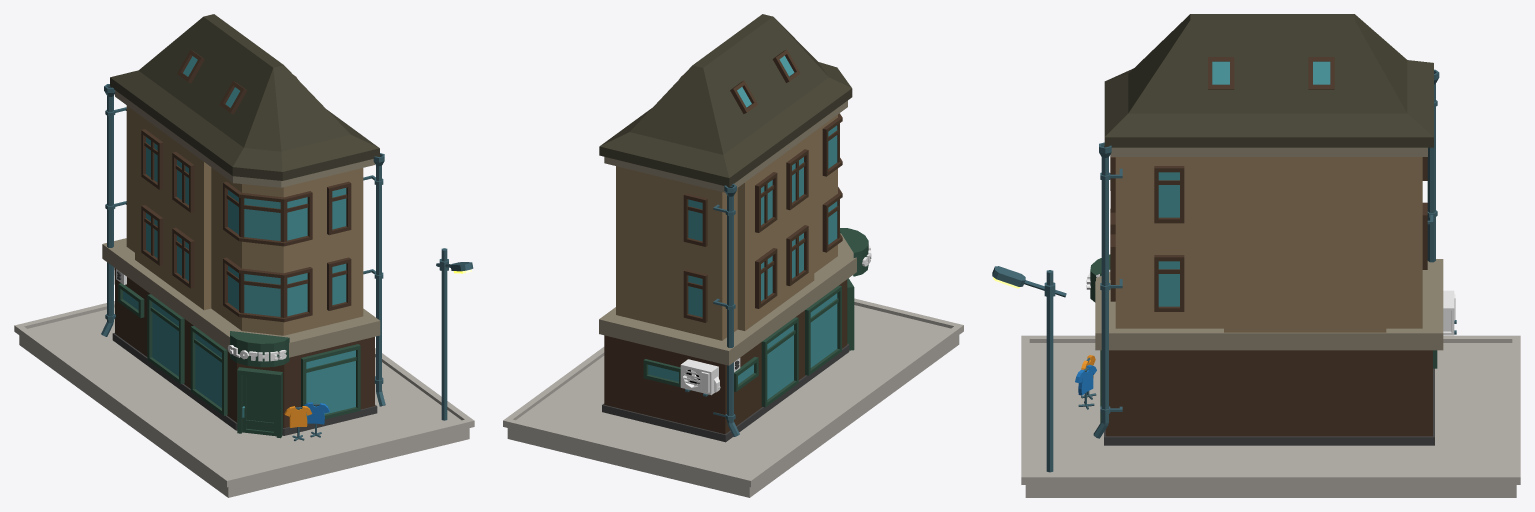
3 renders of one model, left to right at view 1: azimuth 30°, elevation 25°; view 2: azimuth 150°, elevation 25°; view 3: azimuth 270°, elevation 25°, orthographic. The views are drawn at different scales.
Visible parts, largest first — view 1: Plane094, level_010, level_014, level_008, Rectangle023, level_013, level_012, window_115_mirror_0, window_116_mirror_0, window_126_mirror_0, window_115_wall8_0, window_116_wall8_0 (+22 smaller); view 2: Plane094, level_010, level_014, level_008, level_012, Rectangle023, level_013, level_011, level_009, Cylinder1713, window_127_mirror_0, window_128_mirror_0 (+16 smaller); view 3: level_010, Plane094, level_012, level_014, level_008, level_013, Rectangle023, level_011, level_009, Cylinder1714, street_light_005_metal_0, Cylinder1713 (+5 smaller).
Part boxes in pixels (left/top/right/bottom): Plane094: left=19, top=307, right=469, bottom=497; level_010: left=110, top=14, right=379, bottom=180; level_014: left=126, top=172, right=363, bottom=335; level_008: left=126, top=105, right=363, bottom=260; Rectangle023: left=14, top=301, right=474, bottom=487; level_013: left=102, top=238, right=380, bottom=357; level_012: left=115, top=268, right=374, bottom=428; window_115_mirror_0: left=228, top=265, right=307, bottom=316; window_116_mirror_0: left=228, top=190, right=307, bottom=240; window_126_mirror_0: left=306, top=350, right=355, bottom=418; window_115_wall8_0: left=223, top=257, right=312, bottom=322; window_116_wall8_0: left=223, top=181, right=312, bottom=246; Plane094: left=507, top=305, right=959, bottom=497; level_010: left=599, top=14, right=852, bottom=186; level_014: left=616, top=181, right=837, bottom=340; level_008: left=616, top=114, right=837, bottom=265; level_012: left=604, top=279, right=847, bottom=434; Rectangle023: left=503, top=298, right=963, bottom=487; level_013: left=599, top=233, right=856, bottom=365; level_011: left=602, top=343, right=849, bottom=442; level_009: left=604, top=100, right=847, bottom=192; Cylinder1713: left=724, top=183, right=739, bottom=436; window_127_mirror_0: left=810, top=293, right=837, bottom=367; window_128_mirror_0: left=767, top=325, right=793, bottom=399; level_010: left=1104, top=14, right=1433, bottom=147; Plane094: left=1025, top=343, right=1516, bottom=497; level_012: left=1105, top=350, right=1432, bottom=436; level_014: left=1115, top=240, right=1422, bottom=332; level_008: left=1115, top=157, right=1422, bottom=244; level_013: left=1095, top=259, right=1443, bottom=350; Rectangle023: left=1021, top=335, right=1520, bottom=484; level_011: left=1104, top=368, right=1434, bottom=445; level_009: left=1110, top=147, right=1427, bottom=156; Cylinder1714: left=1093, top=142, right=1111, bottom=438; street_light_005_metal_0: left=992, top=266, right=1066, bottom=472; Cylinder1713: left=1427, top=69, right=1439, bottom=262.
Bounding box in the file's own units: 8.2 × 11.1 × 12.91.
